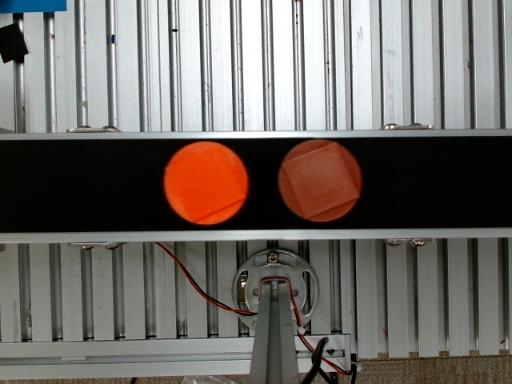Square: (165, 143, 246, 223), (281, 142, 360, 219)
